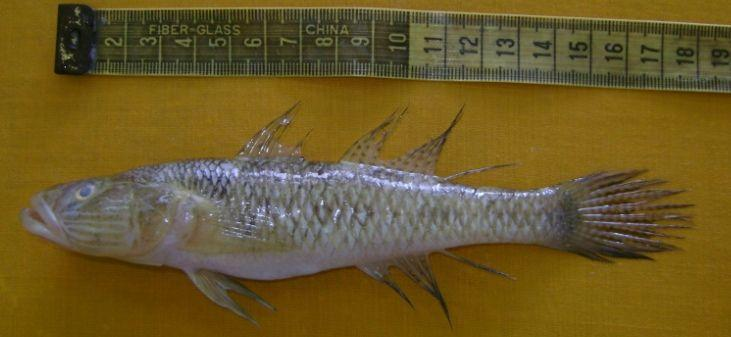Goby: (25, 107, 695, 316)
